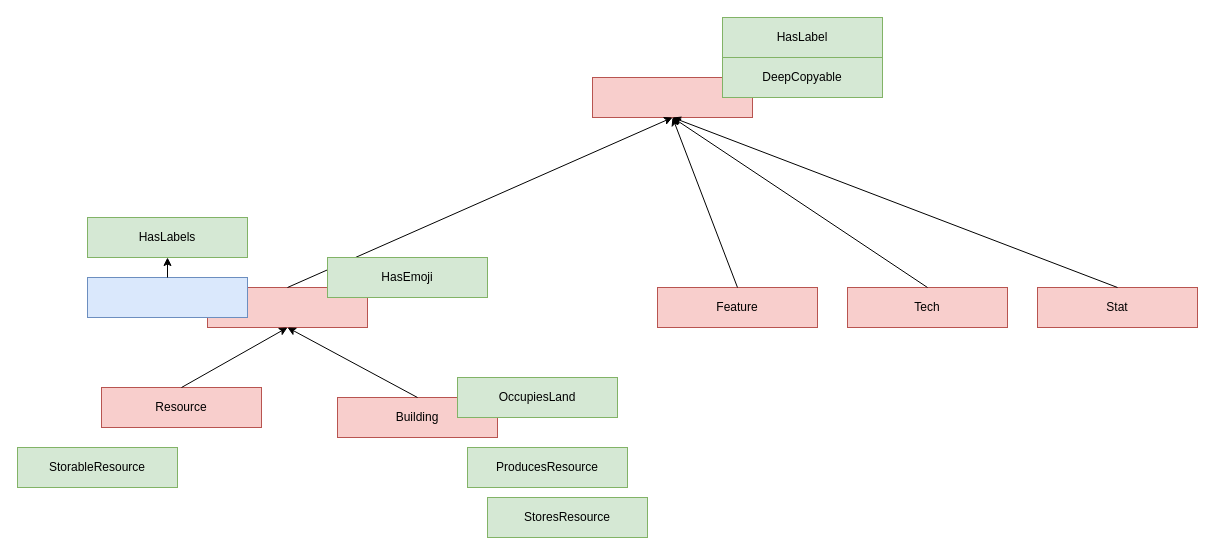
The diagram is 1215 pixels wide and 555 high, and some of its shapes have lost their labels. The box of each missing label's shape, as (x1, y1, x2, y2) in pixels:
Asset: (206, 286, 368, 328)
Entity: (592, 76, 752, 118)
Ownable: (86, 276, 248, 318)
